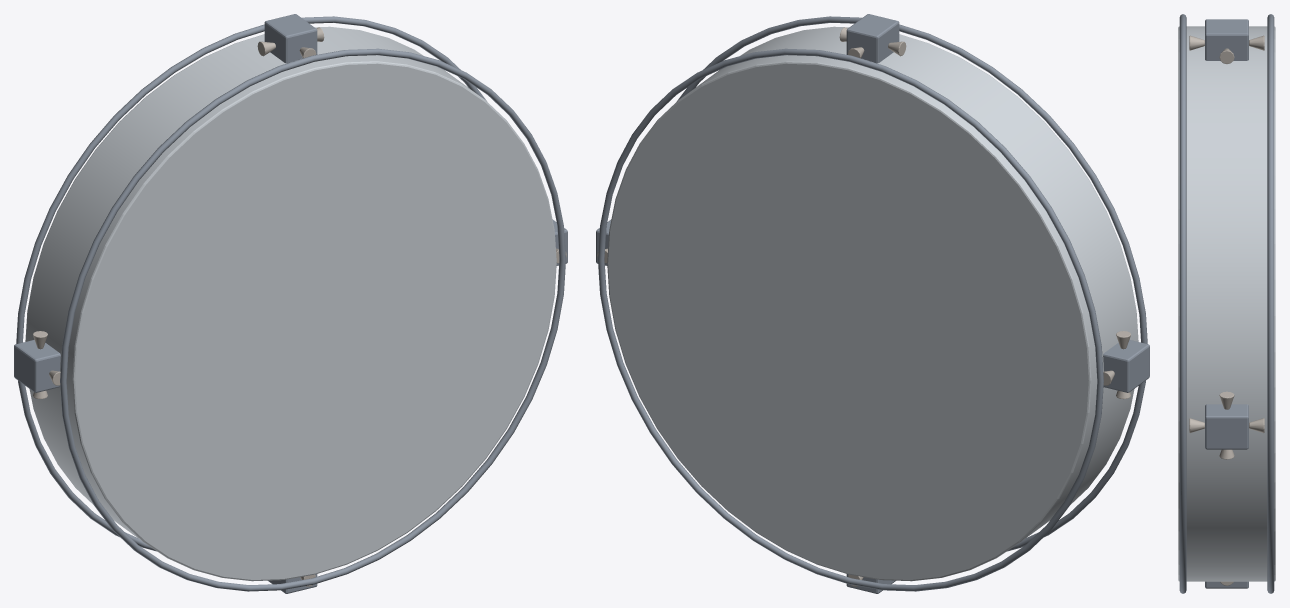
The model's file is rcs-standard.glb.
3 renders of one model, left to right at view 1: azimuth 30°, elevation 25°; view 2: azimuth 150°, elevation 25°; view 3: azimuth 270°, elevation 25°, orthographic.
Visible parts, largest first — view 1: rcs_core, rcs_end_ring_1.0, rcs_end_ring_-1.0, rcs_pod_2, rcs_pod_1; view 2: rcs_core, rcs_end_ring_-1.0, rcs_end_ring_1.0, rcs_pod_2, rcs_pod_1; view 3: rcs_core, rcs_end_ring_-1.0, rcs_end_ring_1.0, rcs_pod_0, rcs_pod_1, rcs_pod_3, rcs_noz_0_t+, rcs_noz_1_t-, rcs_noz_0_z+, rcs_noz_0_z-, rcs_noz_1_z+, rcs_noz_1_z-.
Part boxes in pixels (left/top/right/bottom): rcs_core: left=25, top=26, right=556, bottom=581; rcs_end_ring_1.0: left=60, top=48, right=565, bottom=591; rcs_end_ring_-1.0: left=16, top=16, right=486, bottom=551; rcs_pod_2: left=14, top=339, right=60, bottom=392; rcs_pod_1: left=264, top=14, right=317, bottom=63; rcs_core: left=607, top=26, right=1138, bottom=581; rcs_end_ring_-1.0: left=598, top=48, right=1103, bottom=591; rcs_end_ring_1.0: left=677, top=16, right=1147, bottom=551; rcs_pod_2: left=1103, top=339, right=1149, bottom=392; rcs_pod_1: left=846, top=14, right=899, bottom=63; rcs_core: left=1178, top=26, right=1275, bottom=581; rcs_end_ring_-1.0: left=1267, top=14, right=1274, bottom=593; rcs_end_ring_1.0: left=1179, top=14, right=1186, bottom=593; rcs_pod_0: left=1205, top=404, right=1248, bottom=449; rcs_pod_1: left=1205, top=19, right=1248, bottom=60; rcs_pod_3: left=1205, top=581, right=1248, bottom=588; rcs_noz_0_t+: left=1219, top=391, right=1234, bottom=409; rcs_noz_1_t-: left=1219, top=48, right=1234, bottom=63; rcs_noz_0_z+: left=1189, top=418, right=1204, bottom=432; rcs_noz_0_z-: left=1249, top=418, right=1264, bottom=432; rcs_noz_1_z+: left=1189, top=35, right=1204, bottom=50; rcs_noz_1_z-: left=1249, top=35, right=1264, bottom=50.
Size of the model in its own units: 6.28 by 6.28 by 1.
